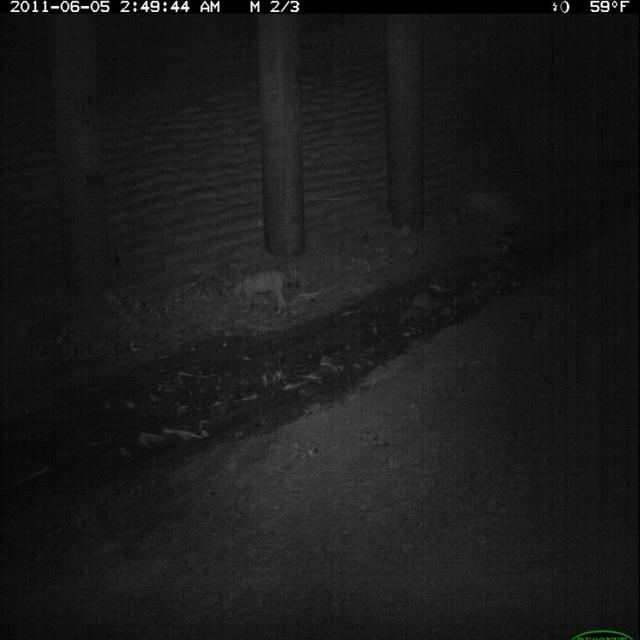bobcat: (230, 265, 291, 319)
